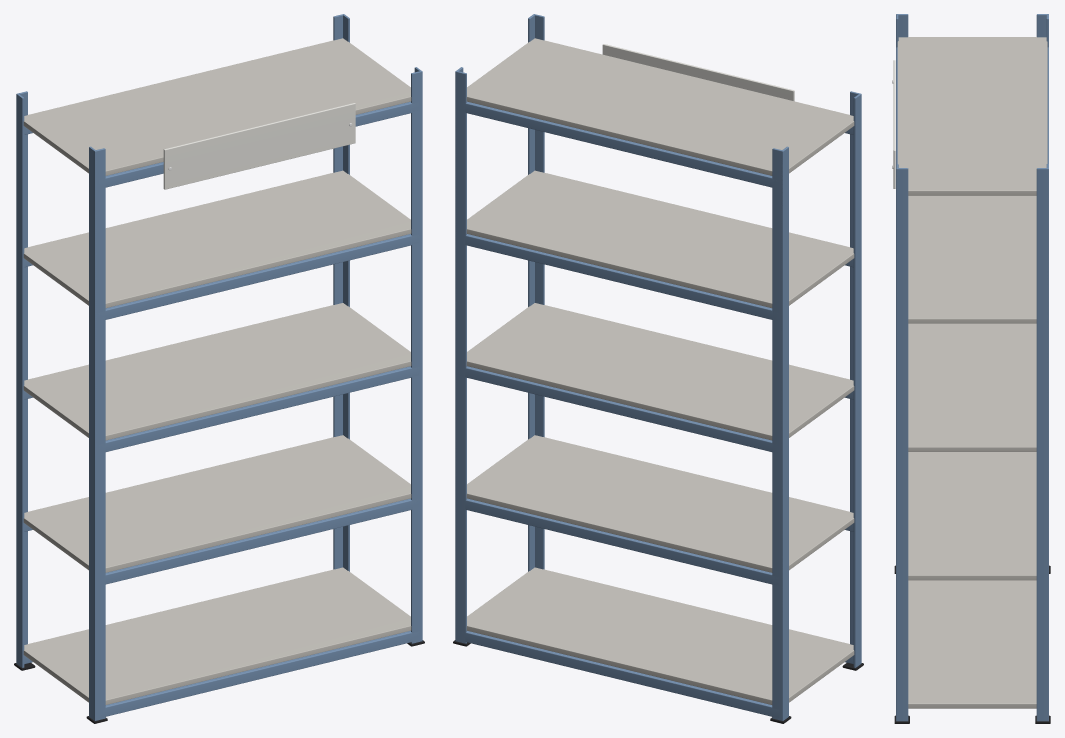
The model's file is shelf_standard.glb.
3 renders of one model, left to right at view 1: azimuth 30°, elevation 25°; view 2: azimuth 150°, elevation 25°; view 3: azimuth 270°, elevation 25°, orthographic. The views are drawn at different scales.
Parts seen in each view (by area): view 1: SM_shelf_standard; view 2: SM_shelf_standard; view 3: SM_shelf_standard.
Part boxes in pixels (x1,y1,x2,y2): SM_shelf_standard: [14, 14, 424, 723]; SM_shelf_standard: [453, 14, 863, 723]; SM_shelf_standard: [892, 14, 1050, 723].
Bounding box in the file's own units: 1.21 × 2 × 0.517.
